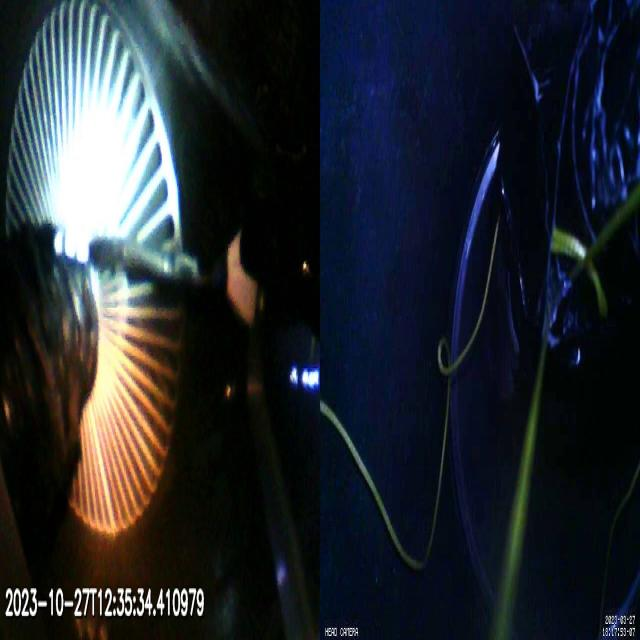head: (227, 235, 271, 319)
white-dots: (54, 226, 90, 264)
